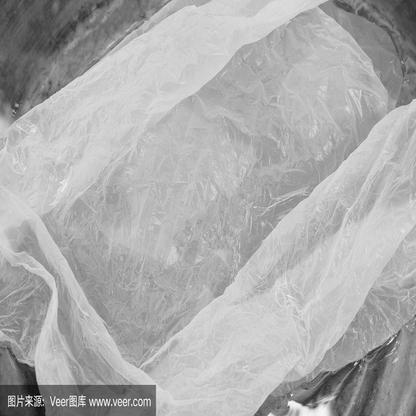plastic bag: (1, 1, 416, 416)
